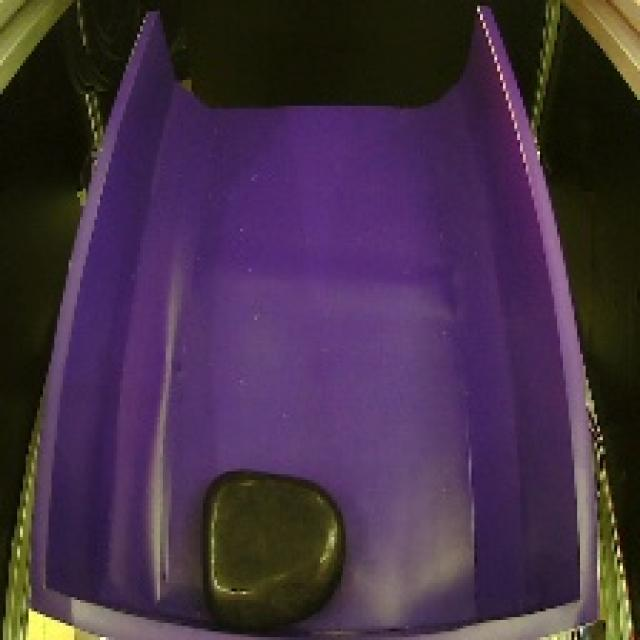cobbles: (185, 456, 354, 628)
